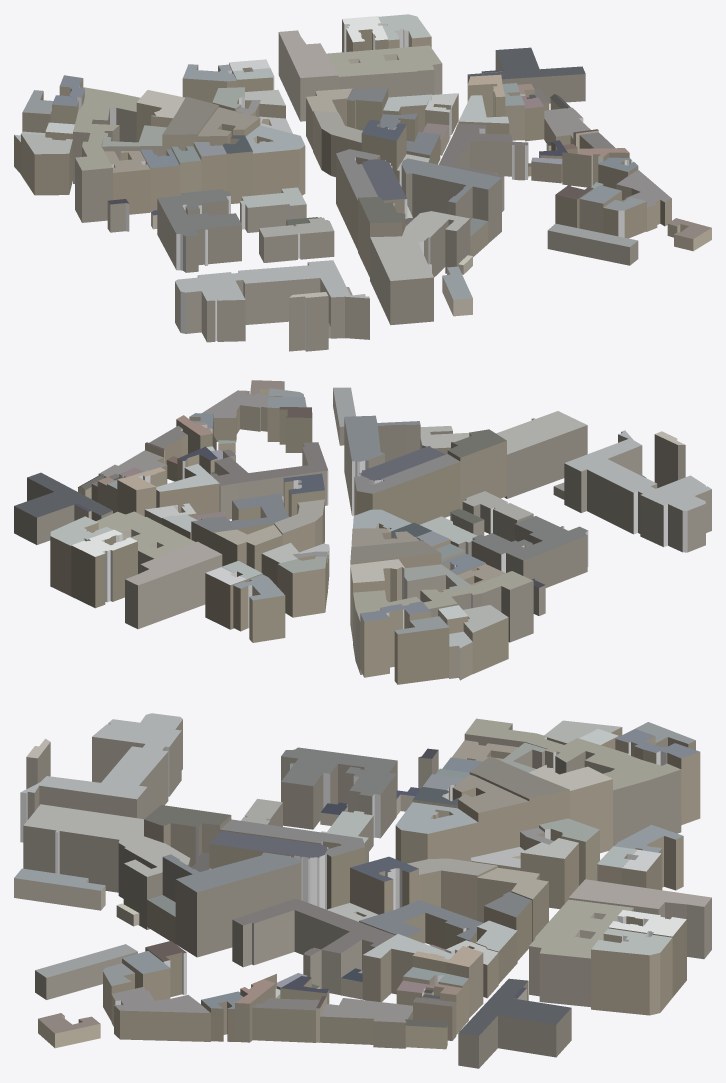
3 renders of one model, top to bottom at view 1: azimuth 30°, elevation 25°; view 2: azimuth 150°, elevation 25°; view 3: azimuth 270°, elevation 25°, orthographic. The views are drawn at different scales.
Parts seen in each view (by area): view 1: tuile; view 2: tuile; view 3: tuile.
Part boxes in pixels (<box>): tuile: <box>14,14,711,351</box>; tuile: <box>14,380,711,684</box>; tuile: <box>14,713,711,1068</box>.
Bounding box in the file's own units: 292 × 34.92 × 273.
